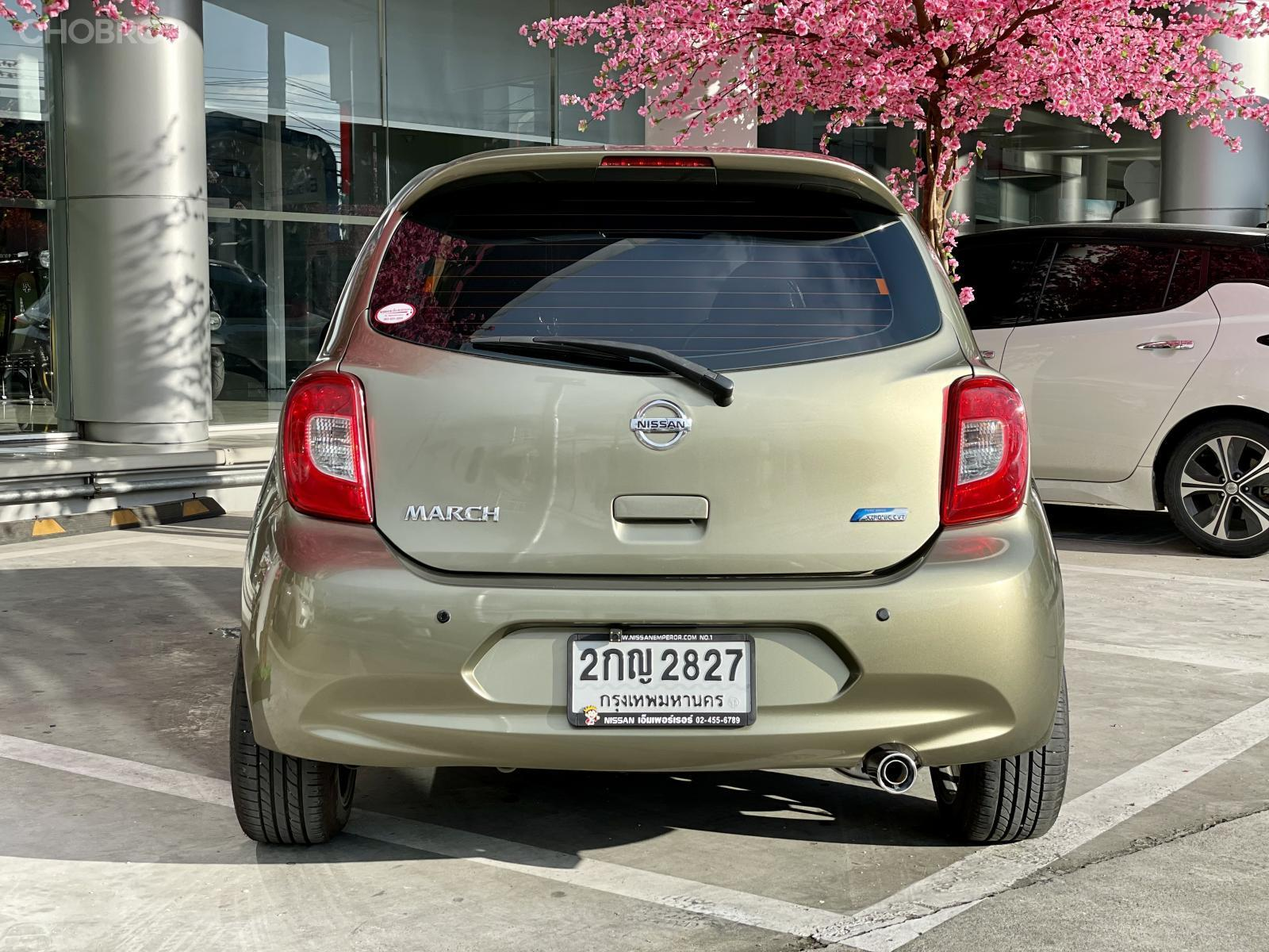license-plate: (565, 625, 759, 729)
